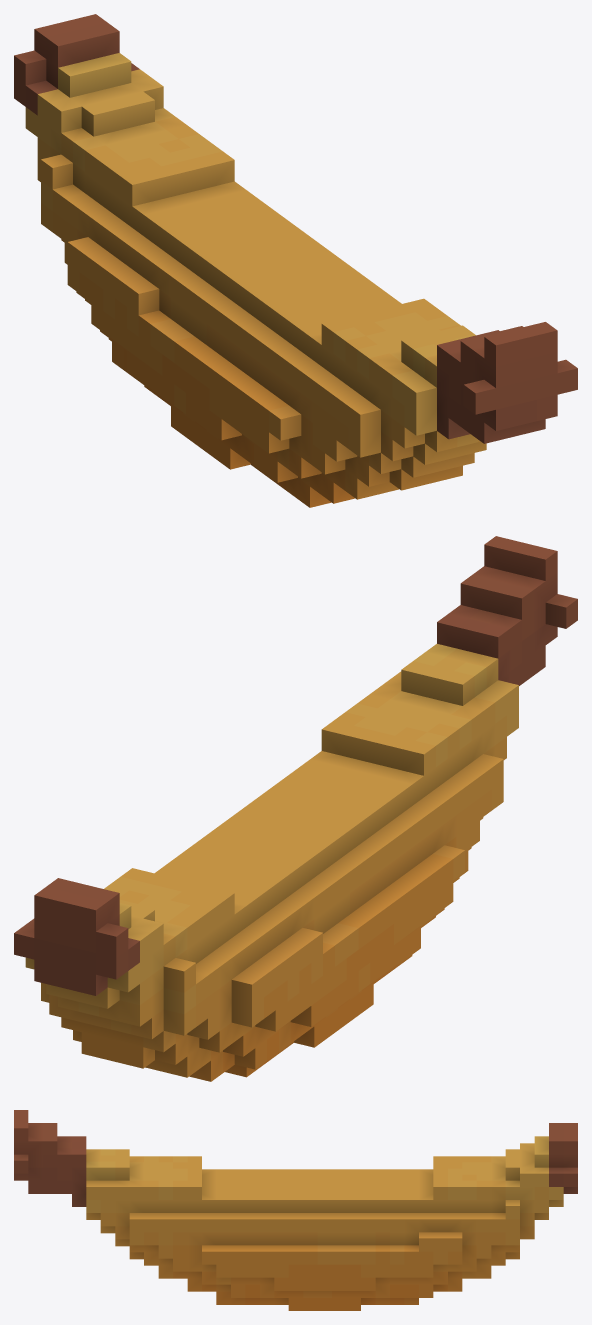
Rendered from banana.glb.
The picture shows the model from 3 angles, top to bottom: view 1: azimuth 30°, elevation 25°; view 2: azimuth 150°, elevation 25°; view 3: azimuth 270°, elevation 25°; orthographic projection. The views are drawn at different scales.
Parts seen in each view (by area): view 1: voxels; view 2: voxels; view 3: voxels.
Boxes of the visible parts, box(x1,y1,x2,y2) form: voxels: box(14, 14, 577, 507); voxels: box(14, 536, 577, 1081); voxels: box(14, 1110, 577, 1310).
Bounding box in the file's own units: 0.1468 × 0.2121 × 0.6364.
